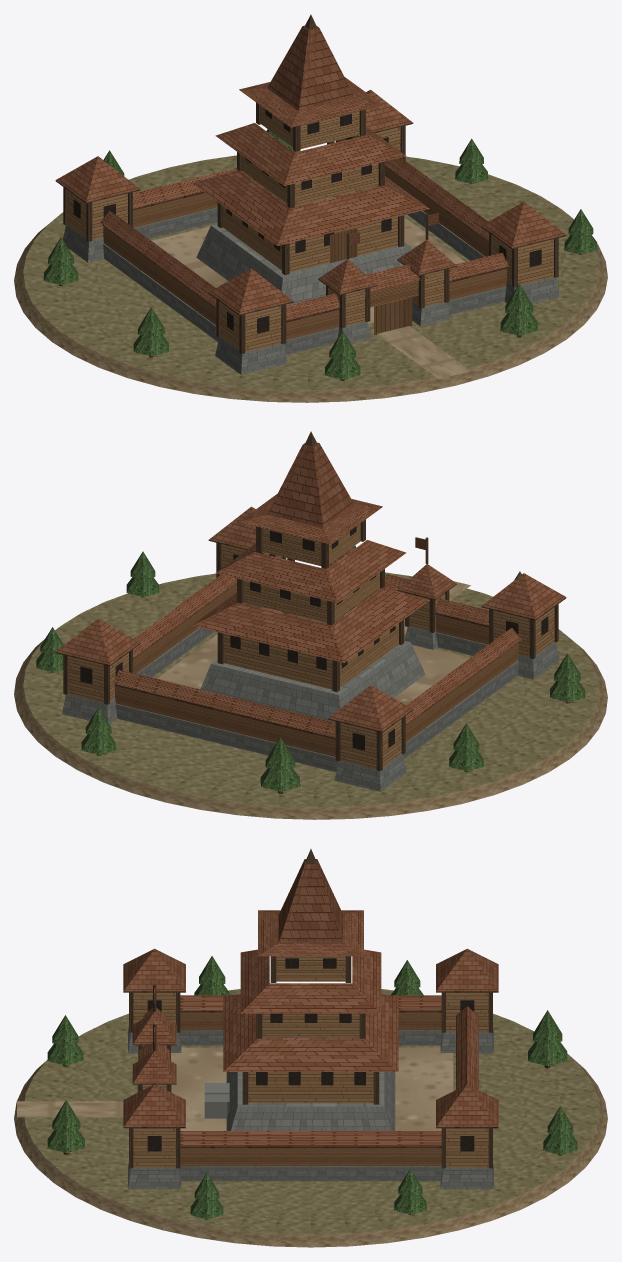
The model's file is keep_large_lod0.glb.
3 views of the same model, one above another, from view 1: azimuth 30°, elevation 25°; view 2: azimuth 150°, elevation 25°; view 3: azimuth 270°, elevation 25° (orthographic). The views are drawn at different scales.
Parts seen in each view (by area): view 1: keep_large_lod0; view 2: keep_large_lod0; view 3: keep_large_lod0.
Part boxes in pixels (left/top/right/bottom): keep_large_lod0: left=14, top=14, right=607, bottom=402; keep_large_lod0: left=14, top=431, right=607, bottom=819; keep_large_lod0: left=14, top=849, right=607, bottom=1247.
Bounding box in the file's own units: 1.89 × 0.9261 × 1.84.
1 material, 1 textured.
